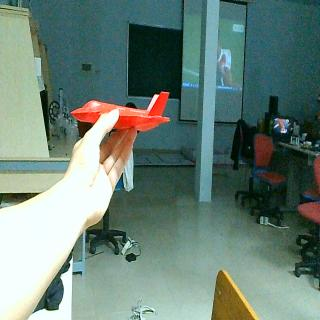Jet: (70, 92, 171, 132)
